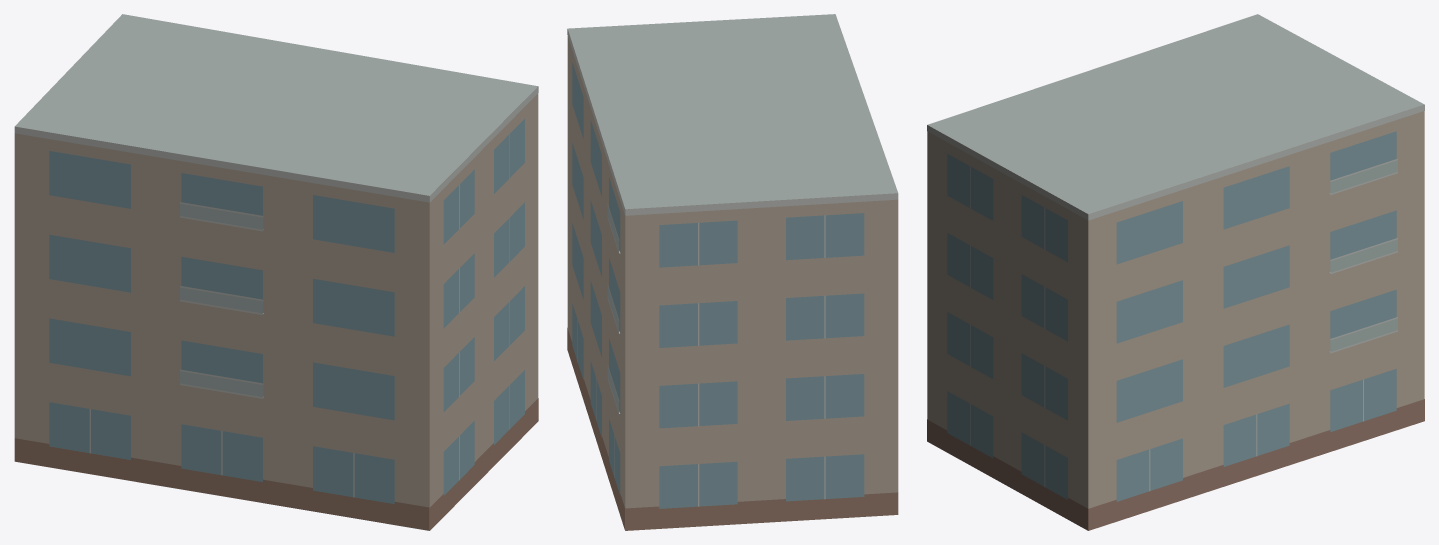
Rendered from survey-upis-32674028.glb.
The picture shows the model from 3 angles, left to right: view 1: azimuth 30°, elevation 25°; view 2: azimuth 150°, elevation 25°; view 3: azimuth 270°, elevation 25°; orthographic projection. The views are drawn at different scales.
Parts seen in each view (by area): view 1: survey-upis-32674028.tmp; view 2: survey-upis-32674028.tmp; view 3: survey-upis-32674028.tmp.
Boxes of the visible parts, left/top/right/bottom form: survey-upis-32674028.tmp: left=14, top=14, right=538, bottom=530; survey-upis-32674028.tmp: left=567, top=14, right=898, bottom=530; survey-upis-32674028.tmp: left=927, top=14, right=1424, bottom=530.
Size of the model in its own units: 16.56 by 12.2 by 17.38.
